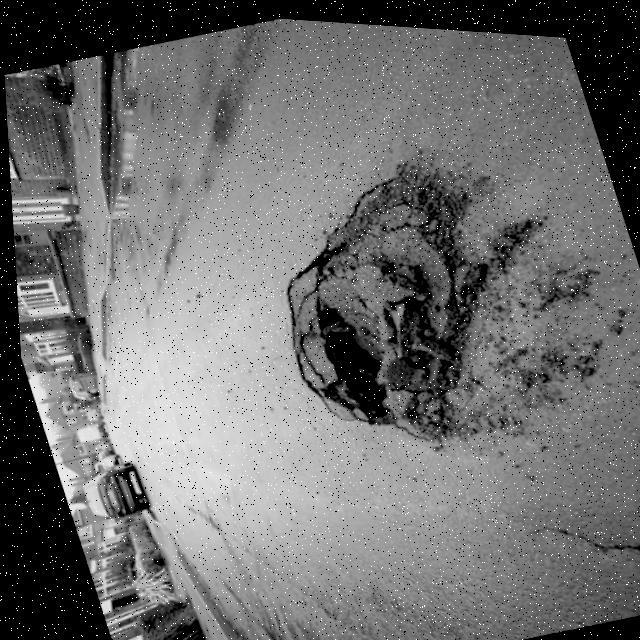pothole: (237, 162, 523, 474)
